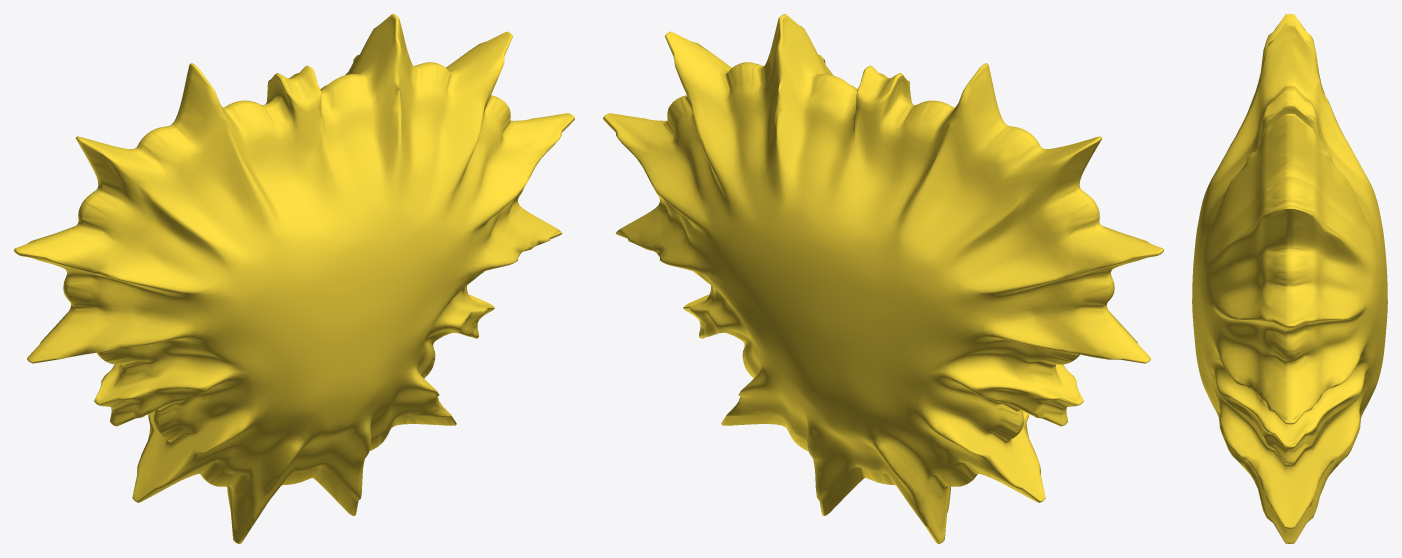
3 renders of one model, left to right at view 1: azimuth 30°, elevation 25°; view 2: azimuth 150°, elevation 25°; view 3: azimuth 270°, elevation 25°, orthographic. The views are drawn at different scales.
Visible parts, largest first — view 1: Extrude.1; view 2: Extrude.1; view 3: Extrude.1.
Boxes of the visible parts, left/top/right/bottom form: Extrude.1: left=14, top=14, right=574, bottom=543; Extrude.1: left=603, top=14, right=1163, bottom=543; Extrude.1: left=1192, top=14, right=1387, bottom=543.
Size of the model in its own units: 215 by 180 by 71.17.
